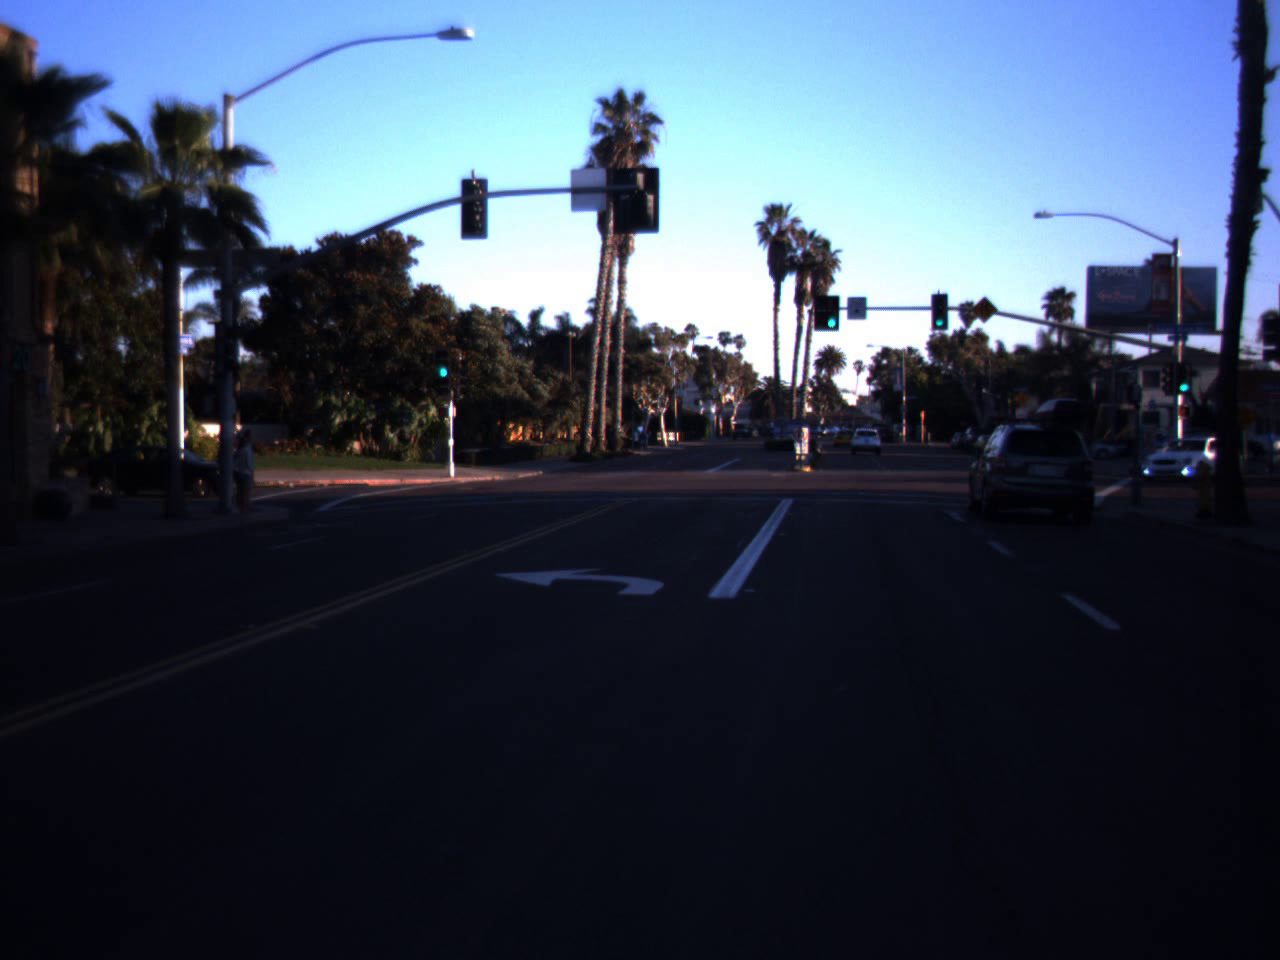go: (434, 344, 452, 379), (821, 299, 842, 329), (934, 307, 946, 327)
